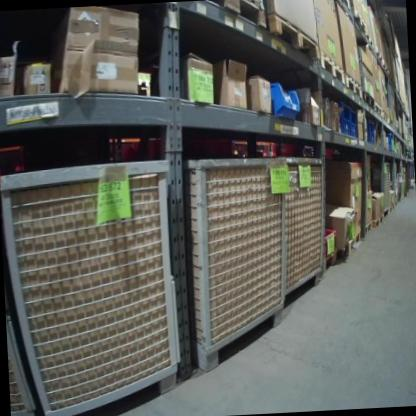pallet: (267, 11, 321, 66), (218, 0, 267, 32), (319, 47, 345, 89), (344, 71, 363, 102), (343, 228, 363, 257), (323, 250, 338, 272), (364, 93, 377, 113), (372, 213, 384, 230), (361, 220, 373, 234), (374, 102, 382, 118), (381, 112, 390, 125), (389, 202, 396, 213)
small_load_carrier: (335, 96, 351, 142), (349, 107, 358, 138), (362, 117, 370, 145), (370, 121, 376, 145), (387, 131, 393, 151)
stillage: (0, 151, 188, 416), (177, 146, 299, 375), (277, 146, 335, 305), (5, 302, 42, 416), (379, 159, 394, 217)
